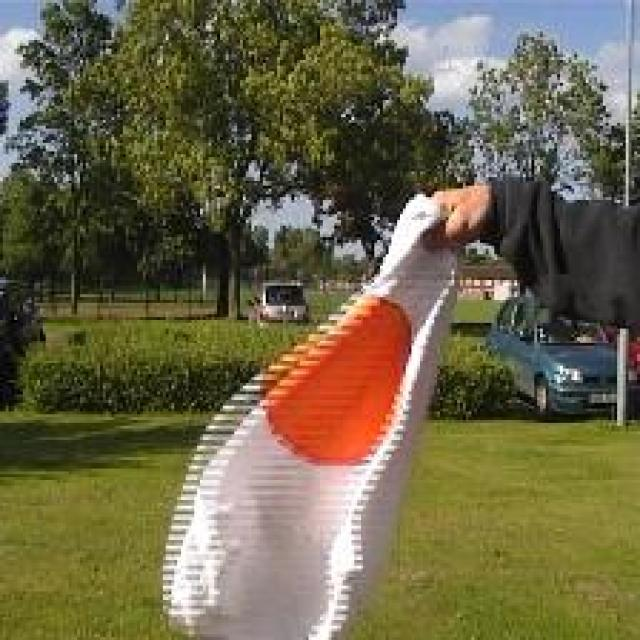other: (247, 282, 426, 468)
